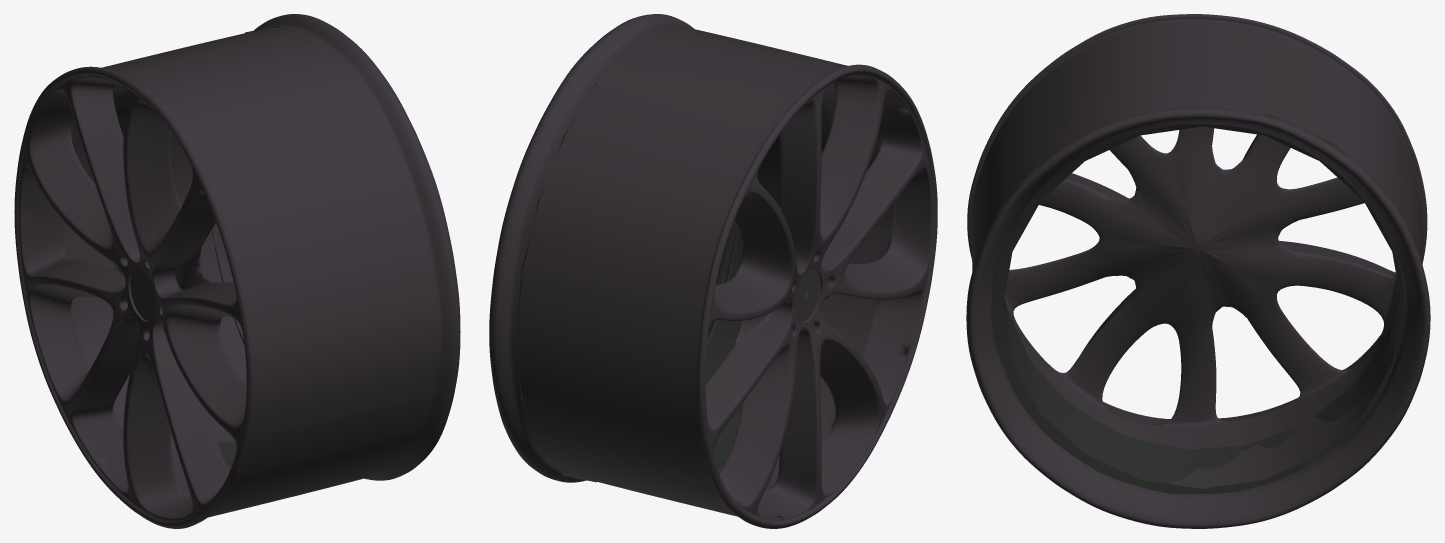
Rendered from rearleft1.glb.
3 renders of one model, left to right at view 1: azimuth 30°, elevation 25°; view 2: azimuth 150°, elevation 25°; view 3: azimuth 270°, elevation 25°, orthographic. The views are drawn at different scales.
Parts seen in each view (by area): view 1: Rear Left Wheel; view 2: Rear Left Wheel; view 3: Rear Left Wheel.
Boxes of the visible parts, bbox=[...] form: Rear Left Wheel: bbox=[14, 14, 460, 528]; Rear Left Wheel: bbox=[489, 14, 937, 528]; Rear Left Wheel: bbox=[966, 14, 1430, 528].
Size of the model in its own units: 0.3309 by 0.6326 by 0.6338.
Materials: 1 (1 with a texture image).
